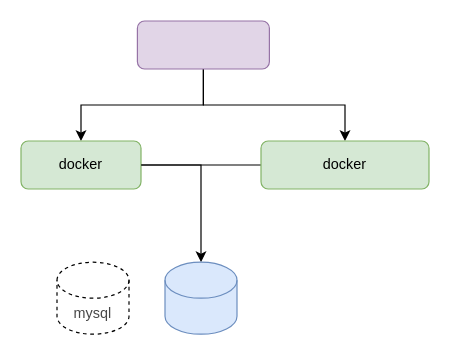
The diagram is 450 pixels wide and 355 high, and some of its shapes have lost their labels. The centre of each missing label's shape, as x and y in pixels:
"redis" goes at [200,297].
"slb-inner(vip)" goes at [202,44].
